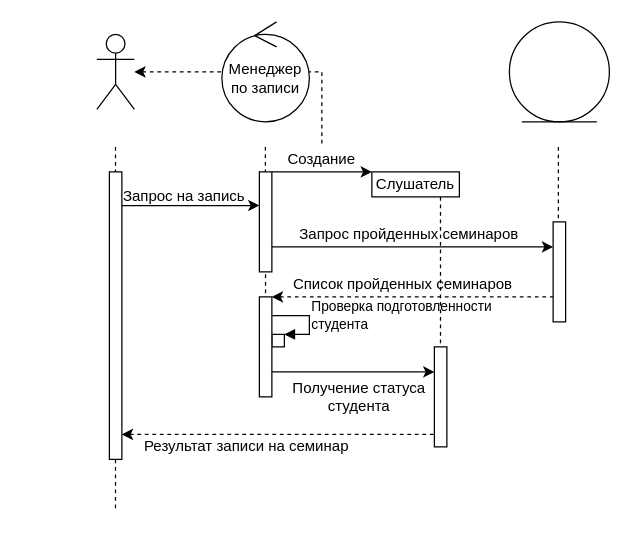
The diagram is 631 pixels wide and 535 high, and some of its shapes have lost their labels. The centre of each missing label's shape, as x and y in pixels:
"База семинаров" goes at point 558,71.
"Студент" goes at point 115,71.
